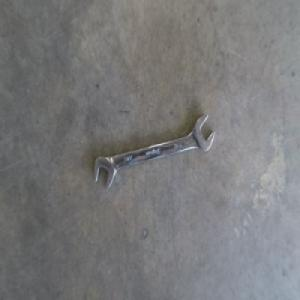Wrench: (93, 112, 215, 189)
